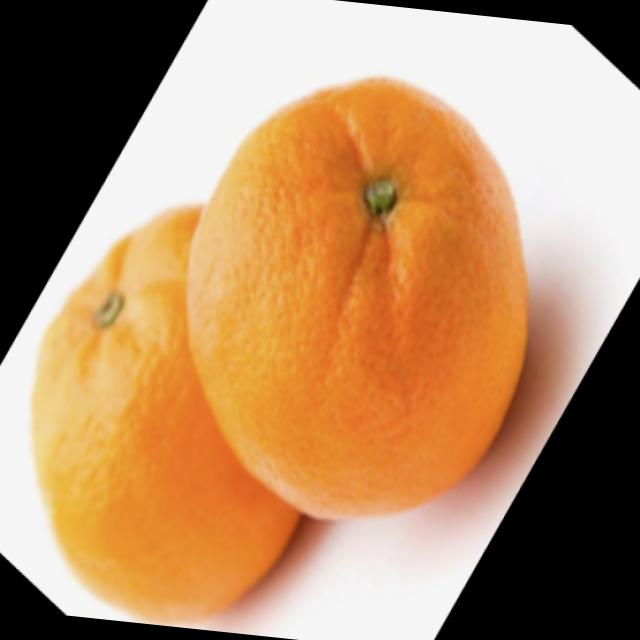orange: (0, 141, 344, 626), (188, 80, 550, 480)
